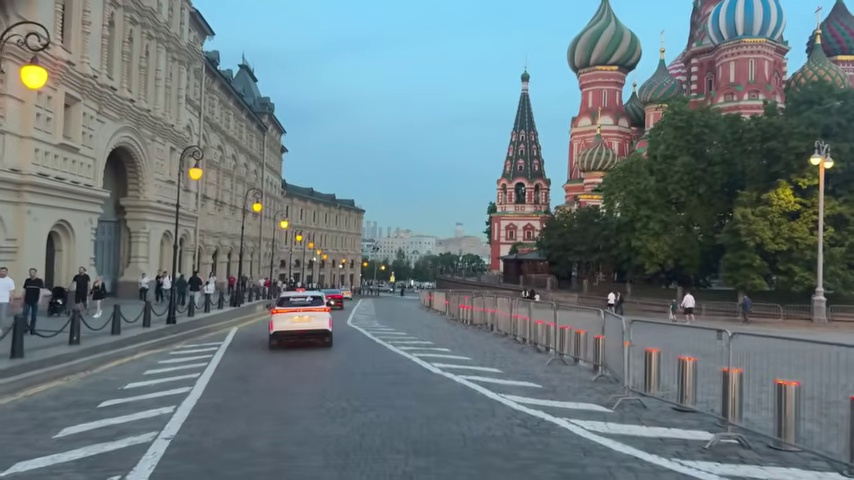acesa: (18, 65, 50, 94), (188, 167, 205, 182)
